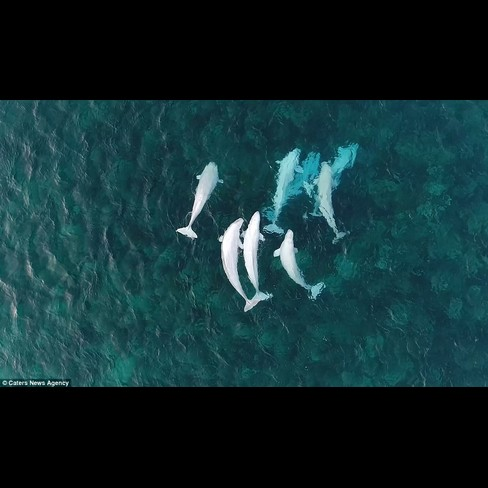beluga: (213, 213, 266, 315), (261, 143, 308, 240), (171, 156, 221, 246), (272, 225, 327, 305), (310, 156, 353, 249), (238, 206, 275, 310)
